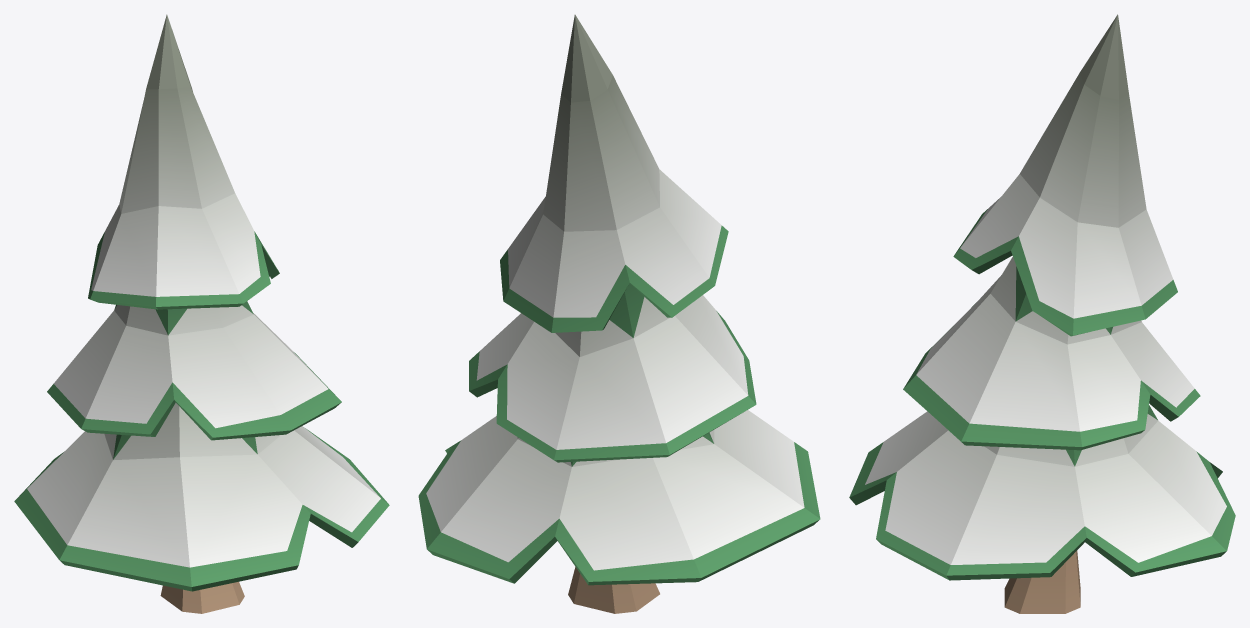
File: SnowPine3.fbx
3 renders of one model, left to right at view 1: azimuth 30°, elevation 25°; view 2: azimuth 150°, elevation 25°; view 3: azimuth 270°, elevation 25°, orthographic. The views are drawn at different scales.
Parts seen in each view (by area): view 1: SnowPine3; view 2: SnowPine3; view 3: SnowPine3.
Boxes of the visible parts, x1,y1,x2,y2 form: SnowPine3: (14, 14, 389, 613); SnowPine3: (418, 14, 820, 613); SnowPine3: (849, 14, 1235, 613).
Size of the model in its own units: 366 by 613 by 368.
